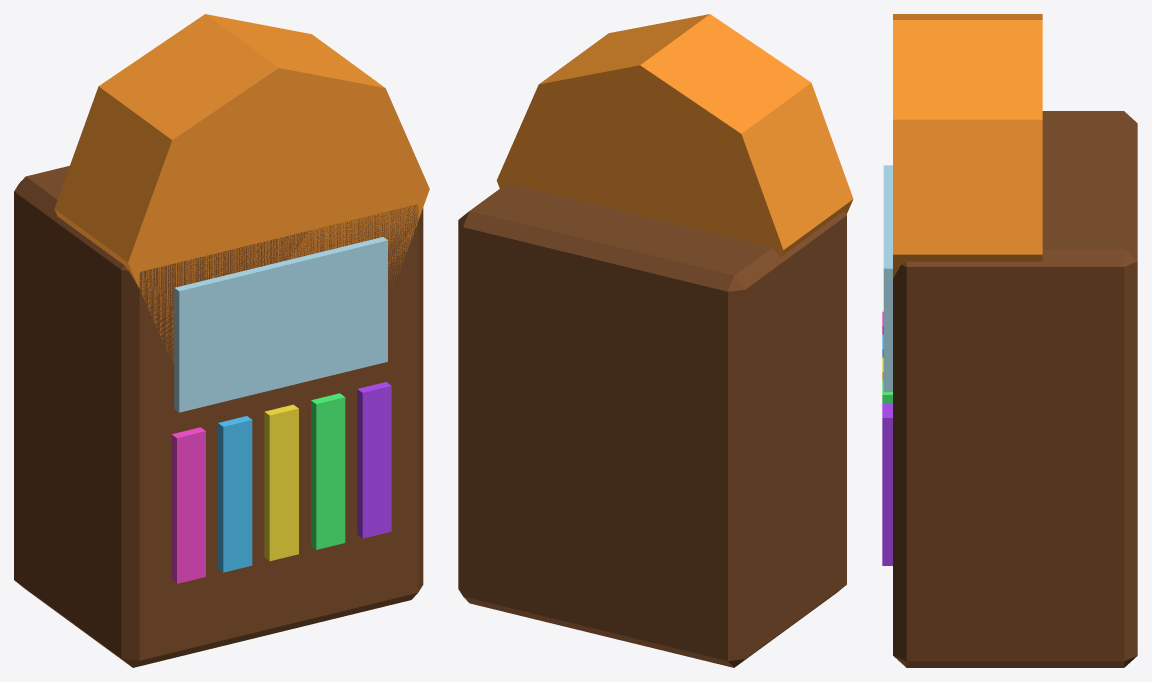
The model's file is Jukebox.fbx.
The picture shows the model from 3 angles, left to right: view 1: azimuth 30°, elevation 25°; view 2: azimuth 150°, elevation 25°; view 3: azimuth 270°, elevation 25°; orthographic projection. The views are drawn at different scales.
Parts seen in each view (by area): view 1: Jukebox; view 2: Jukebox; view 3: Jukebox.
Boxes of the visible parts, box(x1,y1,x2,y2) form: Jukebox: box(14, 14, 429, 667); Jukebox: box(458, 14, 853, 667); Jukebox: box(882, 14, 1137, 667).
Size of the model in its own units: 2.6 by 4.7 by 1.88.
Materials: 1 (1 with a texture image).
